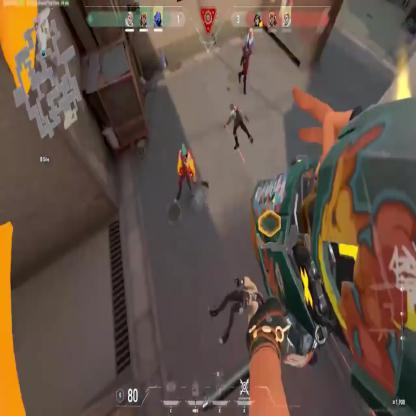enemy: (176, 143, 208, 201), (237, 28, 255, 98)
enemy_head: (181, 145, 188, 159), (247, 29, 254, 40)
